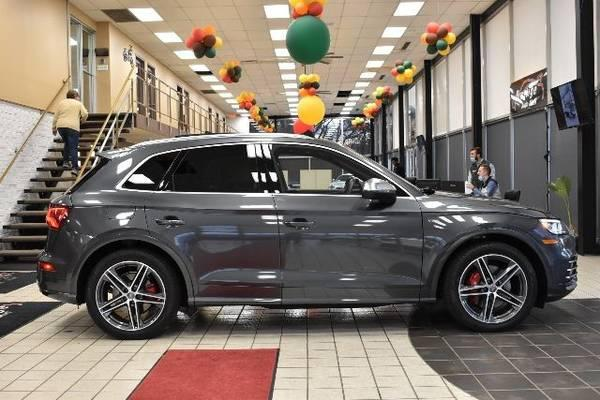Front_Bumper: (522, 226, 580, 301)
Front_Fender: (418, 198, 542, 304)
Front_Right_Door: (273, 194, 426, 305)
Front_Right_Window: (261, 145, 409, 197)
Rear_Bumper: (37, 221, 101, 304)
Rear_Fender: (50, 149, 183, 243)
Rear_Right_Door: (146, 191, 283, 304)
Rear_Right_Window: (157, 142, 272, 194)
Right_Headlight: (537, 219, 570, 235)
Right_Taillight: (45, 206, 71, 231)
Roof: (68, 134, 422, 199)
Wheel: (449, 240, 540, 330), (85, 250, 177, 336)
